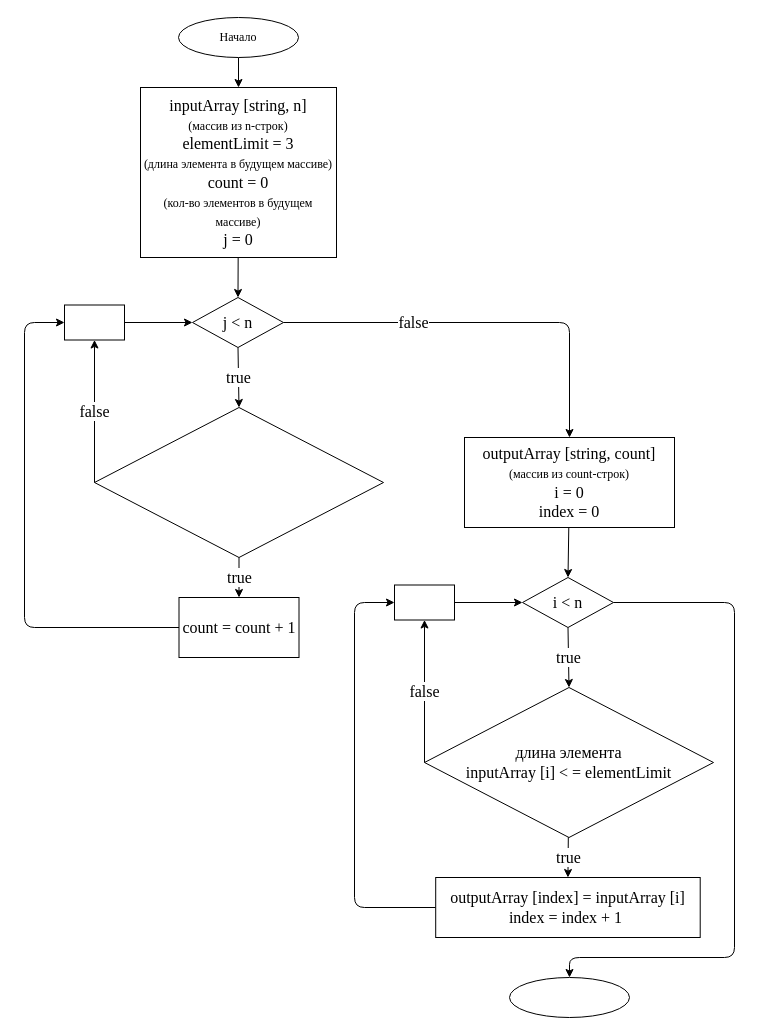
Some shapes in this 760 by 1035 pixel diagram are drawn without their labels. The centre of each missing label's shape, as x and y in pixels:
"i = i + 1" belongs at point 424,602.
"j = j + 1" belongs at point 94,322.
"длина элемента inputArray [j] < = elementLimit" belongs at point 239,482.
"Окончание" belongs at point 569,997.
